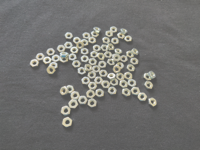nut: (62, 118, 73, 129), (61, 106, 71, 117), (68, 100, 79, 110), (87, 99, 98, 109), (107, 87, 118, 96), (59, 87, 69, 96), (138, 93, 147, 103), (122, 88, 131, 98), (101, 81, 111, 90), (144, 81, 153, 91), (30, 59, 39, 68), (47, 66, 56, 75), (46, 48, 55, 57), (79, 96, 88, 105), (71, 92, 80, 101), (82, 77, 91, 86), (87, 90, 96, 99), (88, 71, 97, 80), (107, 72, 116, 81), (120, 80, 129, 89), (132, 87, 141, 96), (97, 89, 105, 99), (149, 98, 157, 108), (52, 54, 60, 63), (78, 68, 87, 76), (89, 83, 98, 91), (81, 55, 90, 63), (125, 72, 133, 81), (117, 73, 125, 82), (127, 64, 135, 73), (113, 66, 122, 74), (49, 62, 59, 69), (72, 61, 82, 68), (43, 57, 51, 65), (67, 86, 75, 94), (69, 54, 77, 62), (95, 77, 103, 85), (89, 58, 97, 66), (81, 48, 89, 56), (93, 65, 101, 73), (100, 70, 108, 78), (99, 61, 107, 69), (129, 80, 137, 88), (125, 35, 133, 43), (144, 74, 152, 82), (113, 54, 121, 62), (131, 58, 139, 66), (83, 32, 91, 40), (77, 41, 85, 49), (89, 37, 97, 45), (90, 51, 98, 59), (127, 51, 135, 59), (36, 54, 45, 61), (57, 45, 66, 52), (60, 57, 69, 64), (115, 62, 124, 69), (101, 44, 108, 53), (65, 32, 73, 39), (65, 42, 73, 49), (71, 47, 79, 54), (86, 64, 93, 72), (107, 59, 115, 66), (94, 45, 101, 53), (74, 37, 82, 44), (118, 32, 125, 40), (105, 52, 113, 59), (112, 38, 120, 45), (132, 48, 139, 56), (150, 71, 156, 80), (106, 31, 113, 38), (103, 37, 110, 44), (82, 40, 89, 47), (98, 54, 105, 61), (108, 44, 115, 51), (110, 26, 117, 33), (111, 80, 119, 86), (122, 55, 128, 63), (60, 52, 69, 57), (121, 28, 128, 34), (94, 27, 101, 33), (116, 49, 123, 55), (91, 32, 99, 37)
